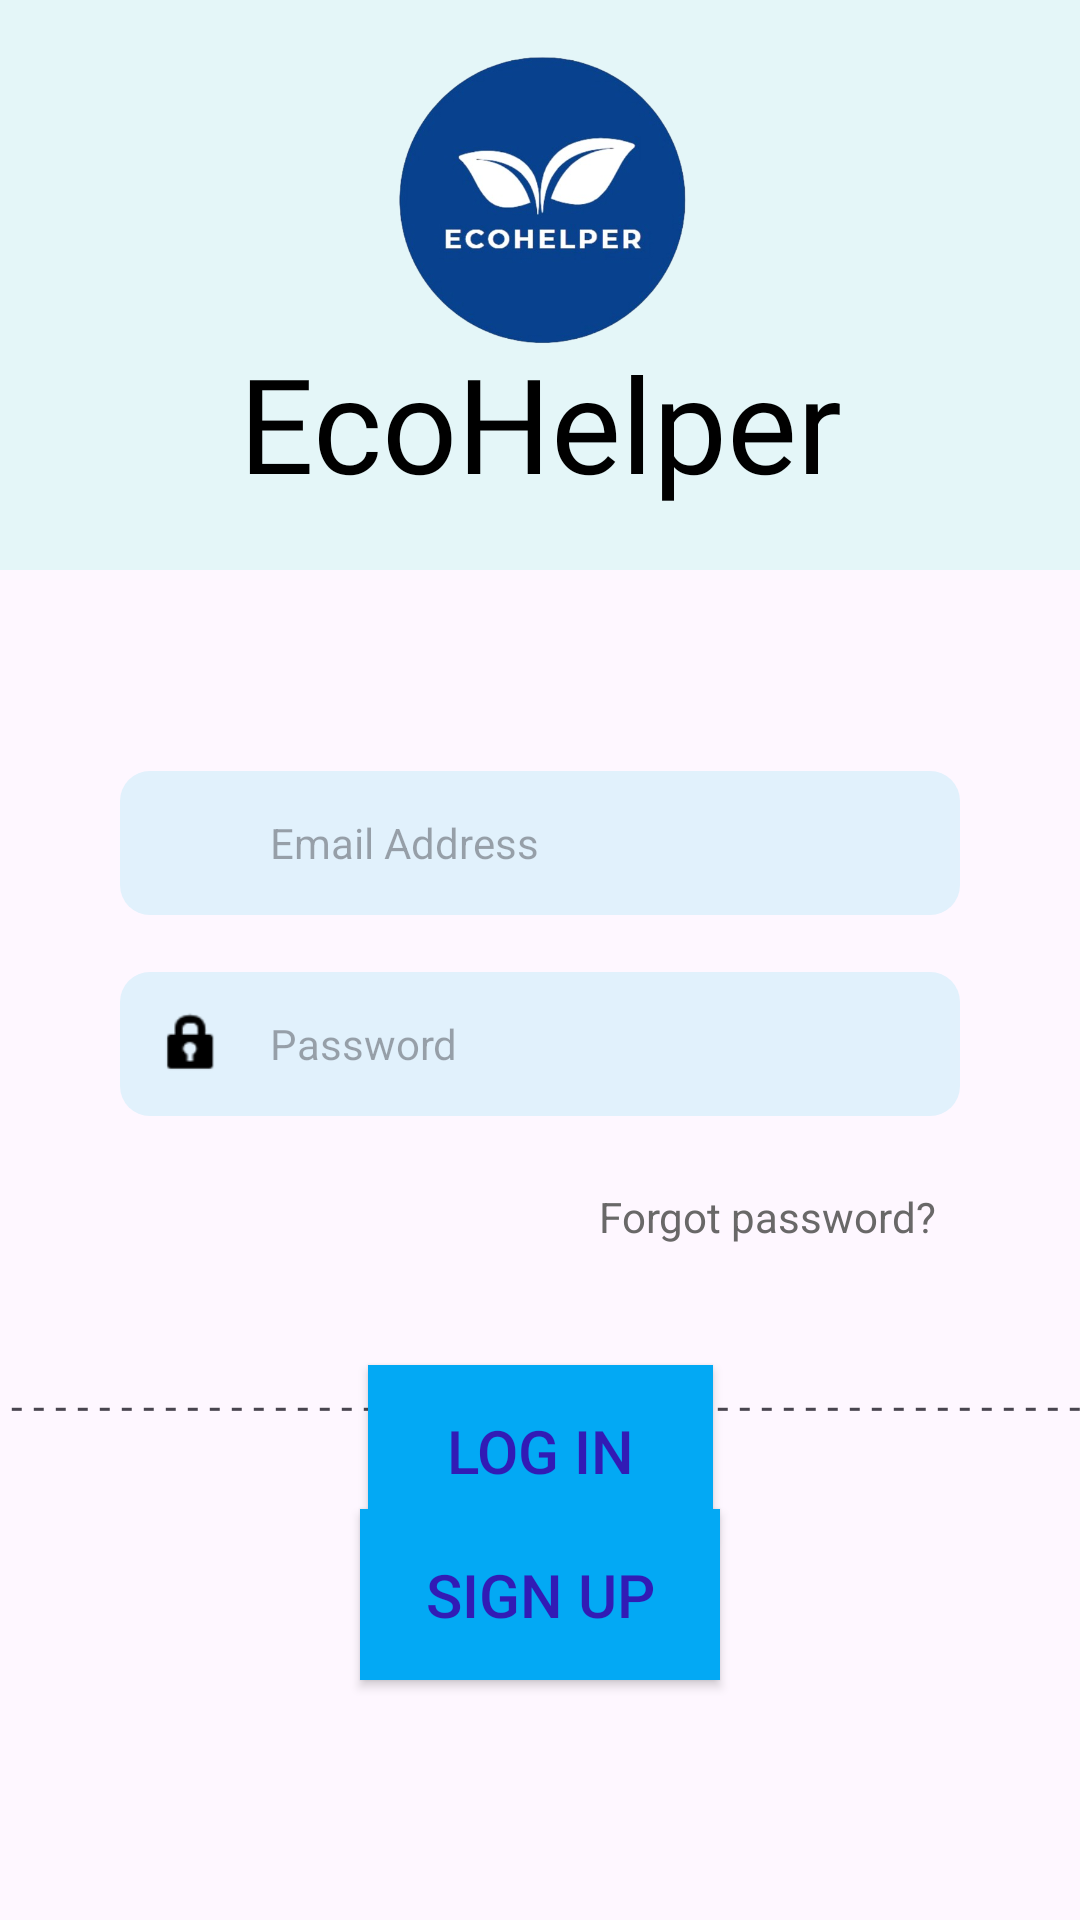

Where icons sit on this 1080*1920 app screen, as box=[x1, y1, x2, y2]:
lock idle: box=[167, 1014, 214, 1069]
